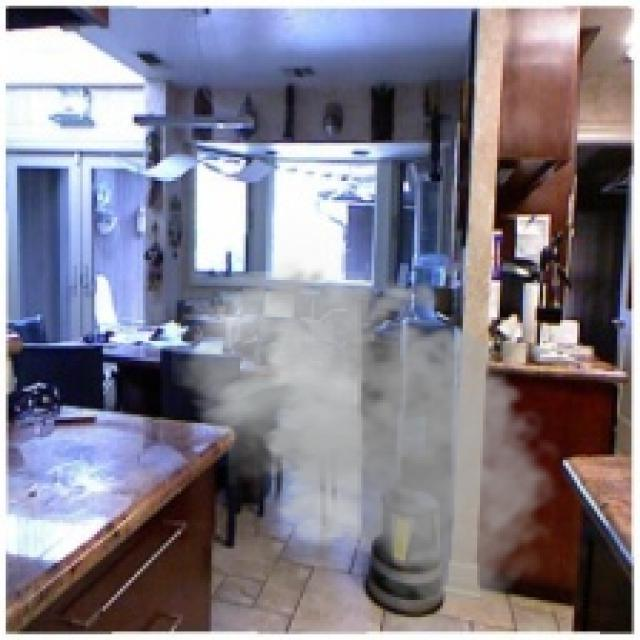Smoke: (172, 257, 572, 614)
